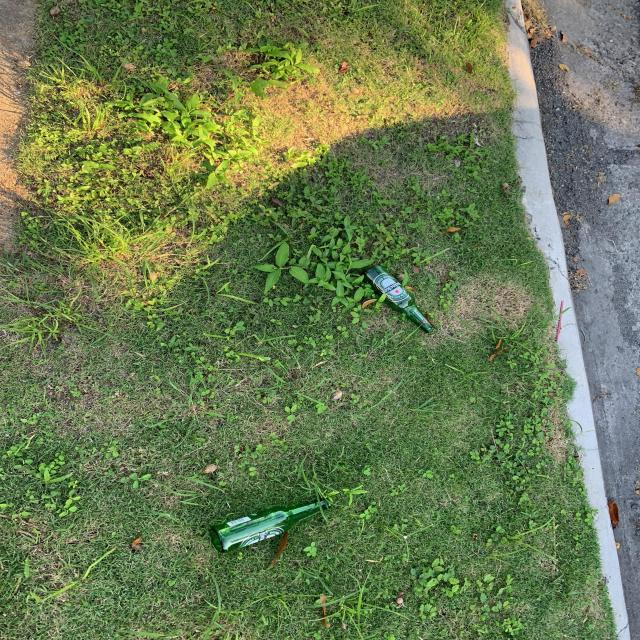litter: (209, 497, 330, 552), (359, 265, 435, 333)
